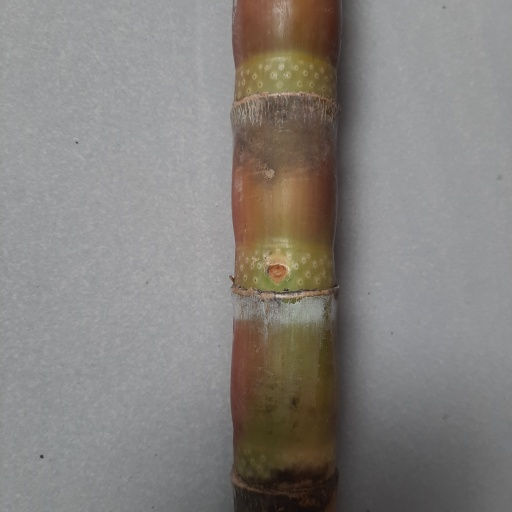Damage_Bud: (266, 263, 290, 284)
